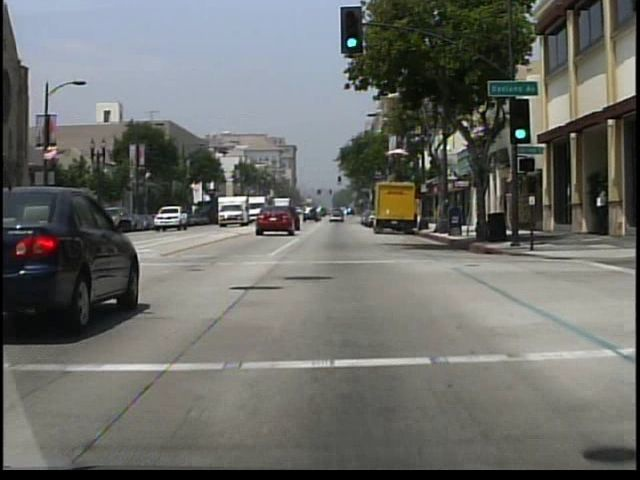person: (594, 188, 607, 233)
